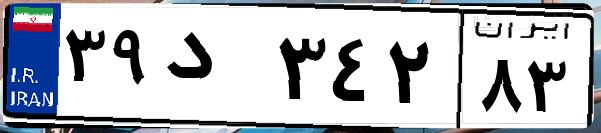2: (385, 28, 445, 110)
3: (270, 28, 330, 110), (57, 26, 110, 100), (525, 38, 570, 115)
4: (330, 28, 385, 110)
8: (475, 38, 525, 113)
9: (110, 28, 158, 98)
د: (158, 20, 270, 120)
